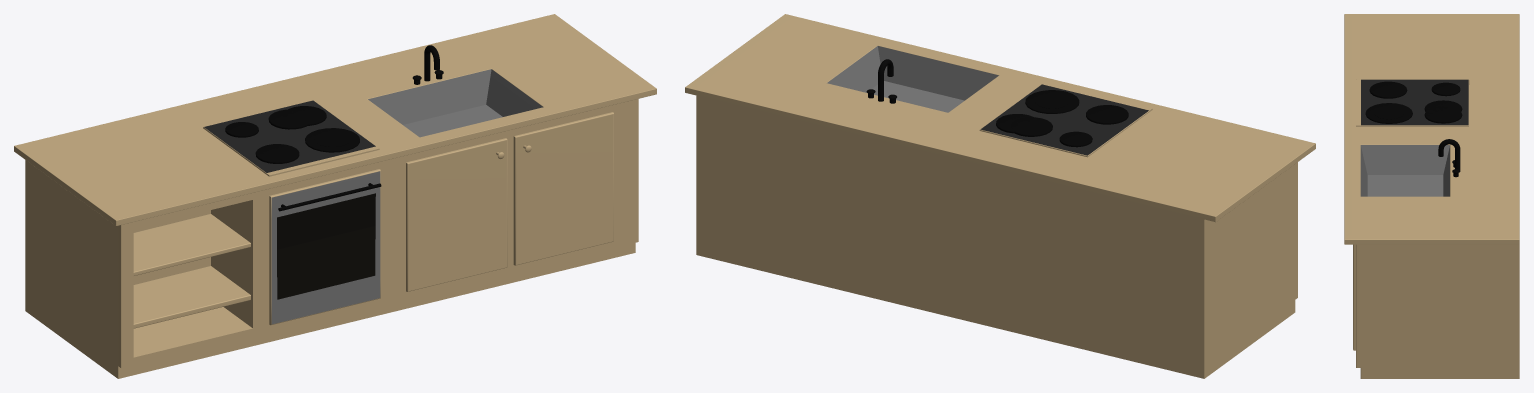
File: kueche.fbx
3 views of the same model, side by side, from view 1: azimuth 30°, elevation 25°; view 2: azimuth 150°, elevation 25°; view 3: azimuth 270°, elevation 25° (orthographic). The views are drawn at different scales.
Visible parts, largest first — view 1: pCube1, pCylinder2, pCylinder6, pCylinder3, pCylinder4; view 2: pCube1, pCylinder2, pCylinder6, pCylinder3, pCylinder4; view 3: pCube1, pCylinder2, pCylinder6, pCylinder4, pCylinder3, pCylinder5, pCylinder1.
Boxes of the visible parts, bbox=[...] form: pCube1: bbox=[14, 14, 656, 378]; pCylinder2: bbox=[255, 144, 299, 163]; pCylinder6: bbox=[305, 128, 359, 152]; pCylinder3: bbox=[268, 109, 311, 129]; pCylinder4: bbox=[283, 106, 326, 125]; pCube1: bbox=[685, 14, 1315, 378]; pCylinder2: bbox=[1086, 105, 1128, 124]; pCylinder6: bbox=[1025, 90, 1079, 113]; pCylinder3: bbox=[1010, 117, 1052, 136]; pCylinder4: bbox=[996, 114, 1037, 133]; pCube1: bbox=[1344, 14, 1519, 378]; pCylinder2: bbox=[1369, 81, 1407, 98]; pCylinder6: bbox=[1365, 103, 1412, 123]; pCylinder4: bbox=[1424, 106, 1462, 123]; pCylinder3: bbox=[1424, 100, 1462, 115]; pCylinder5: bbox=[1374, 106, 1404, 119]; pCylinder1: bbox=[1431, 82, 1460, 96].
Size of the model in its own units: 3.37 by 1.22 by 1.1.
